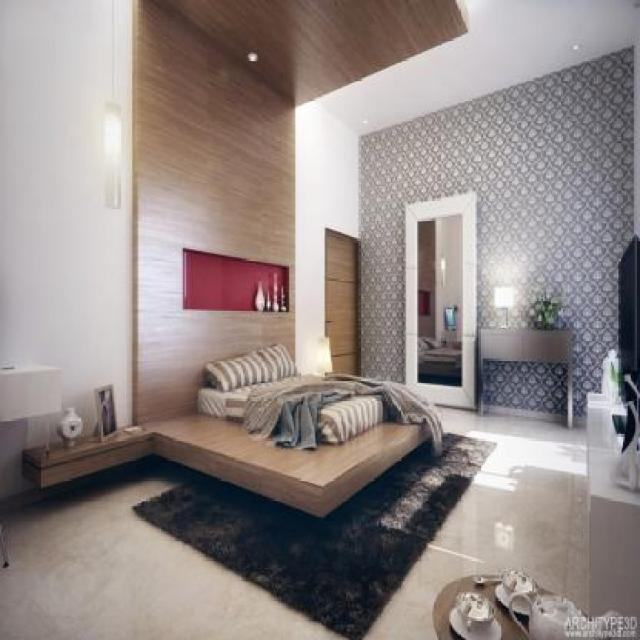Floor: (0, 466, 348, 639), (363, 405, 589, 639)
